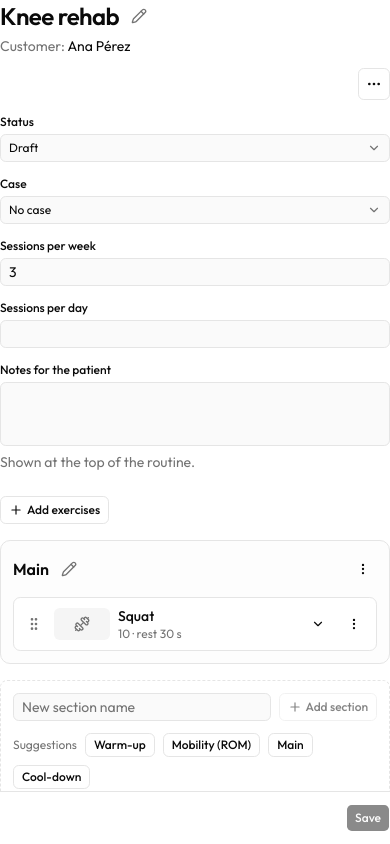
RoutineEditor › opens the picker sheet with only the localized Done button to close it
Click the button "Add exercises": {"x": 55, "y": 510} [0,496,109,524]
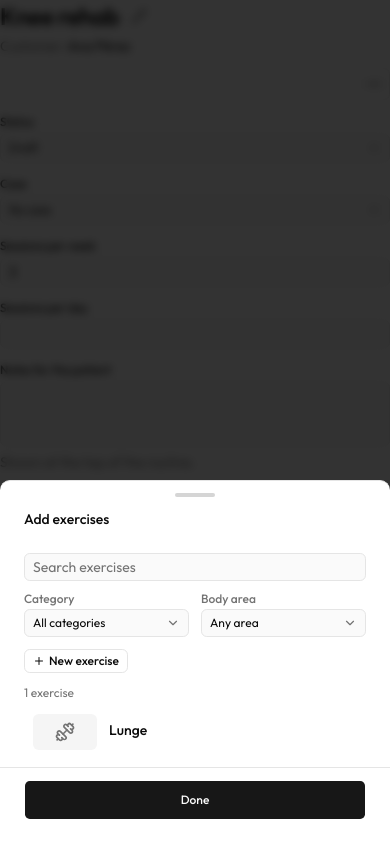
Now the button "Done" is shown, box [24,780,366,820]
